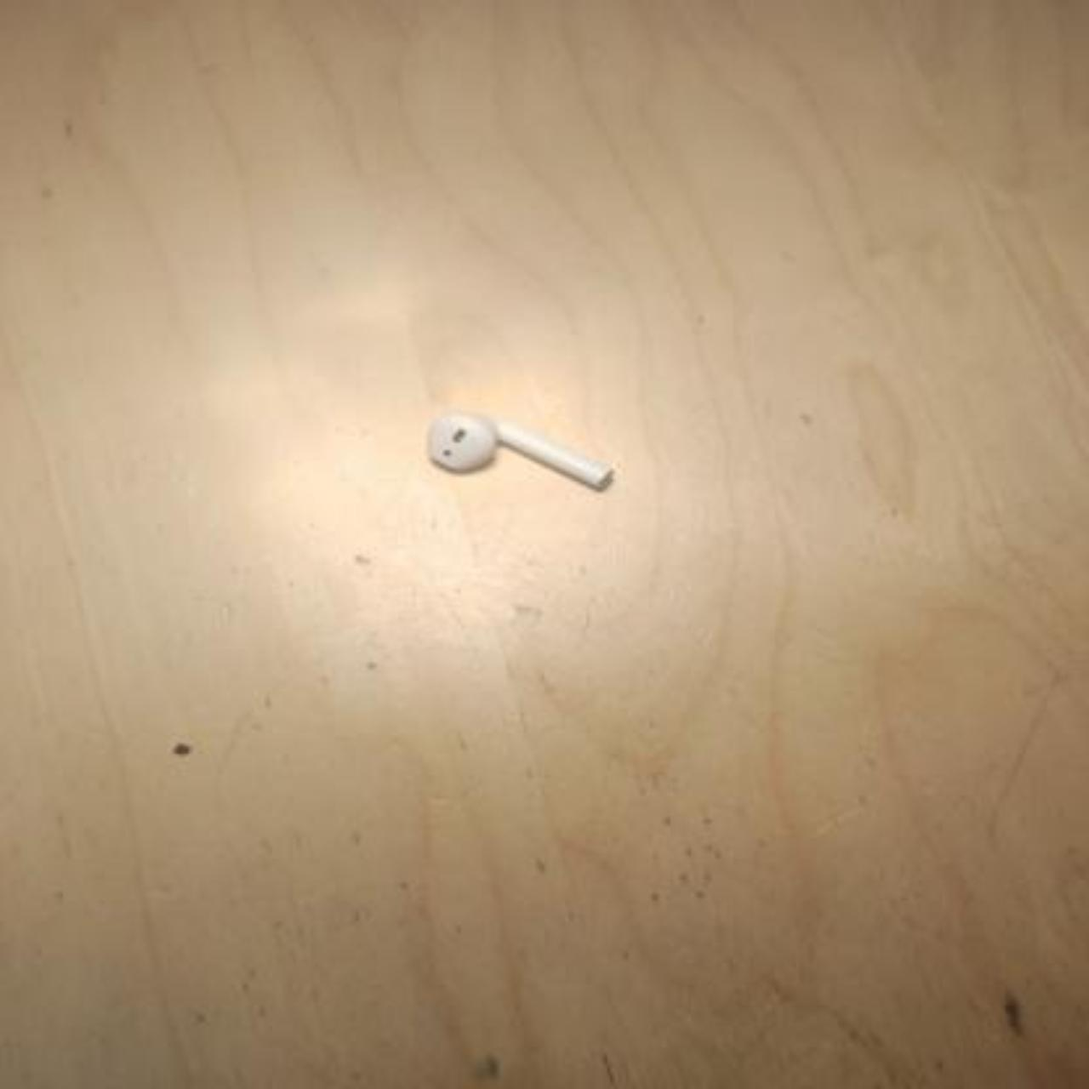Airpods_Units: (424, 413, 617, 496)
